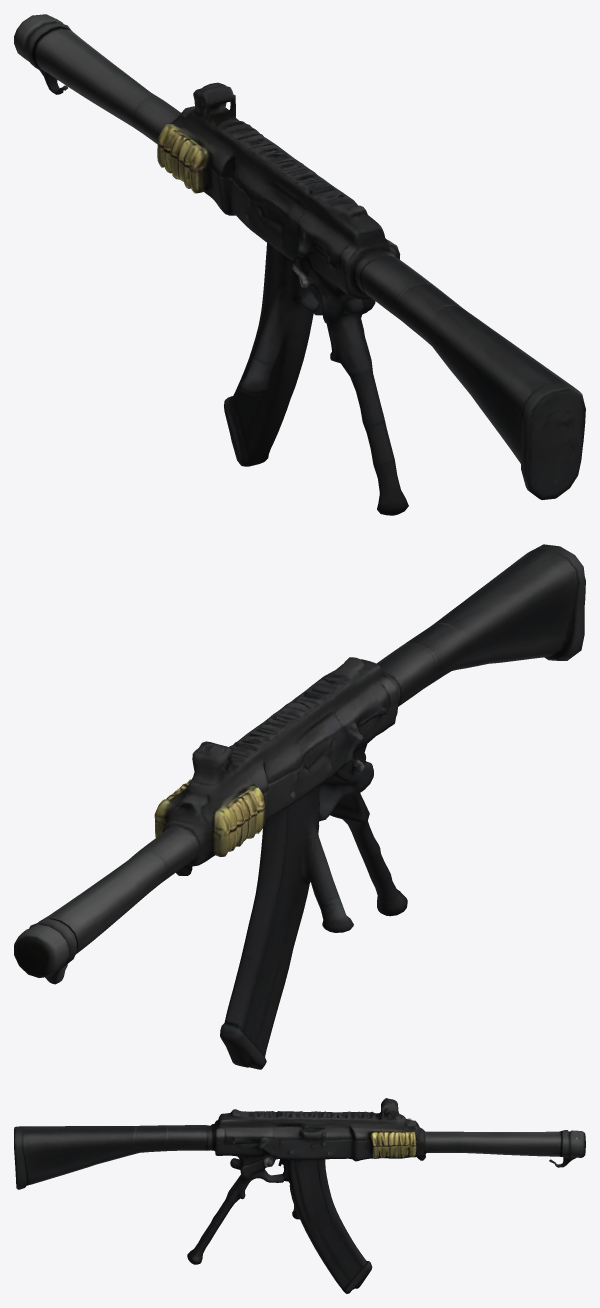
File: w_lmg.glb
The picture shows the model from 3 angles, top to bottom: view 1: azimuth 30°, elevation 25°; view 2: azimuth 150°, elevation 25°; view 3: azimuth 270°, elevation 25°; orthographic projection. The views are drawn at different scales.
Parts seen in each view (by area): view 1: model; view 2: model; view 3: model.
Part boxes in pixels (x1=…): model: x1=14, y1=14, x2=585, y2=515; model: x1=14, y1=544, x2=585, y2=1069; model: x1=14, y1=1098, x2=585, y2=1293.
Size of the model in its own units: 0.1975 by 0.6995 by 1.9.
Materials: 1 (1 with a texture image).
